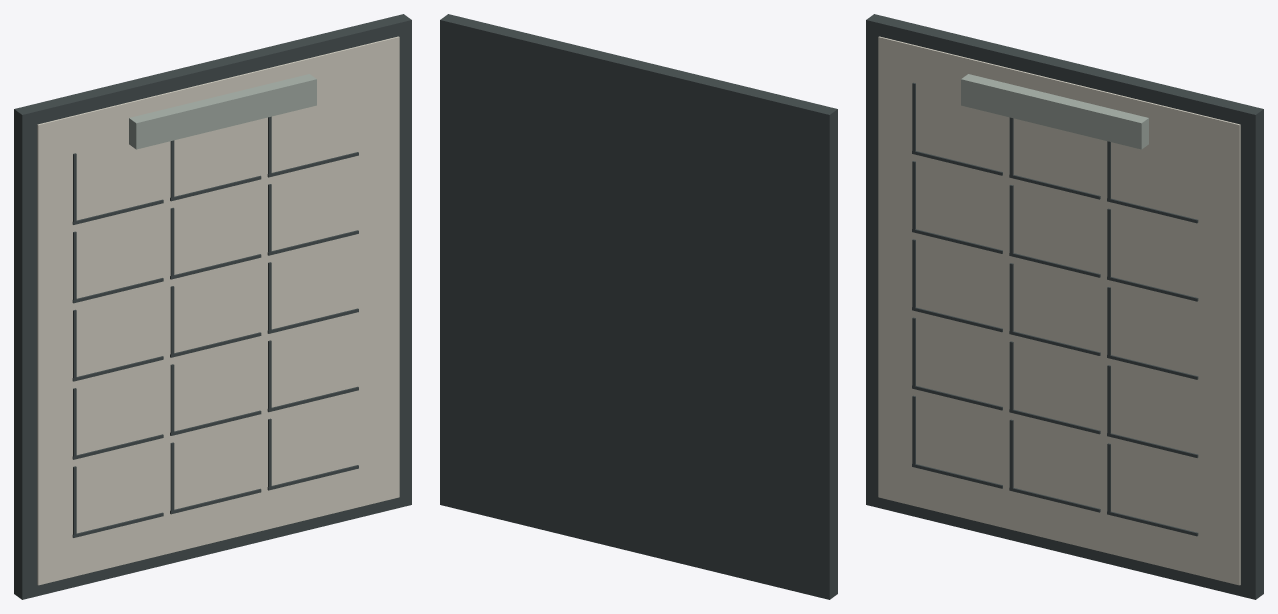
File: blender_site_map_2.glb
3 renders of one model, left to right at view 1: azimuth 30°, elevation 25°; view 2: azimuth 150°, elevation 25°; view 3: azimuth 330°, elevation 25°, orthographic.
Visible parts, largest first — view 1: blender_site_map_2; view 2: blender_site_map_2; view 3: blender_site_map_2.
Part boxes in pixels (left/top/right/bottom): blender_site_map_2: left=14, top=14, right=411, bottom=599; blender_site_map_2: left=440, top=14, right=837, bottom=599; blender_site_map_2: left=866, top=14, right=1263, bottom=599.
Bounding box in the file's own units: 0.248 × 0.295 × 0.0195.
1 material, 1 textured.
